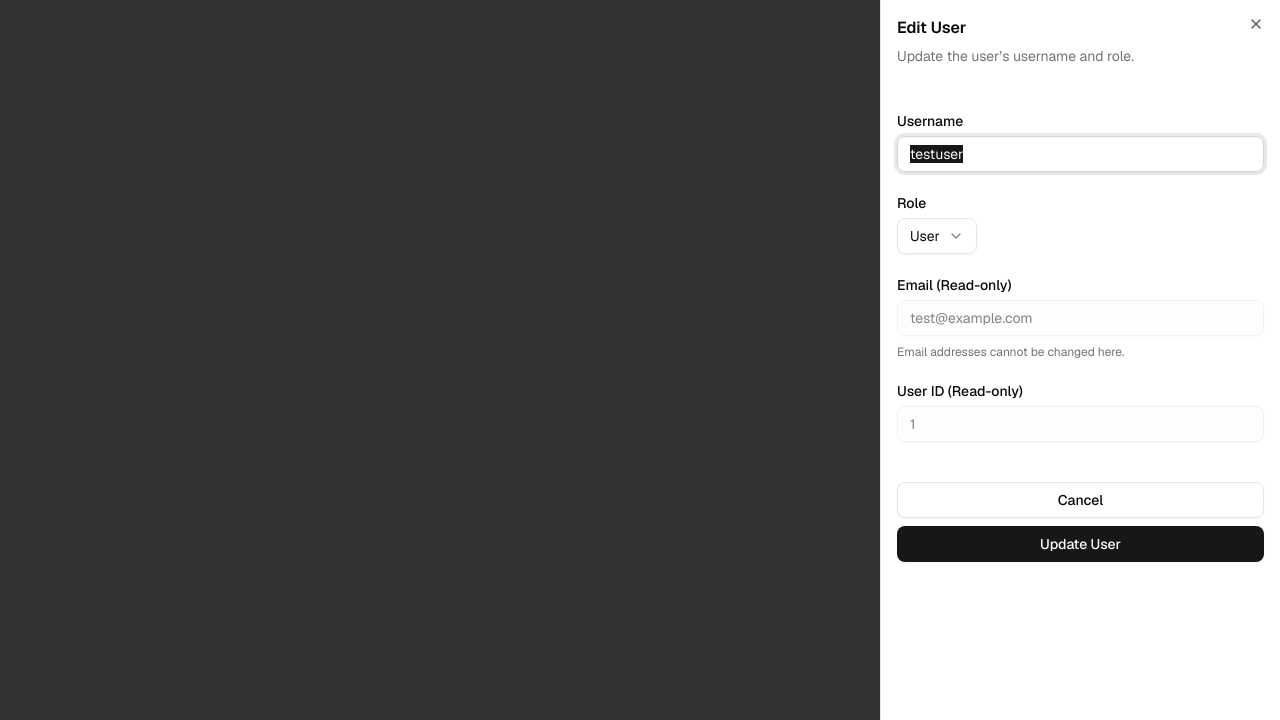
it: UserForm Component › validates username - length constraint
Replace the text in the field with test id "username-input" with "ab" at x=1080, y=154, box [897, 136, 1264, 172]
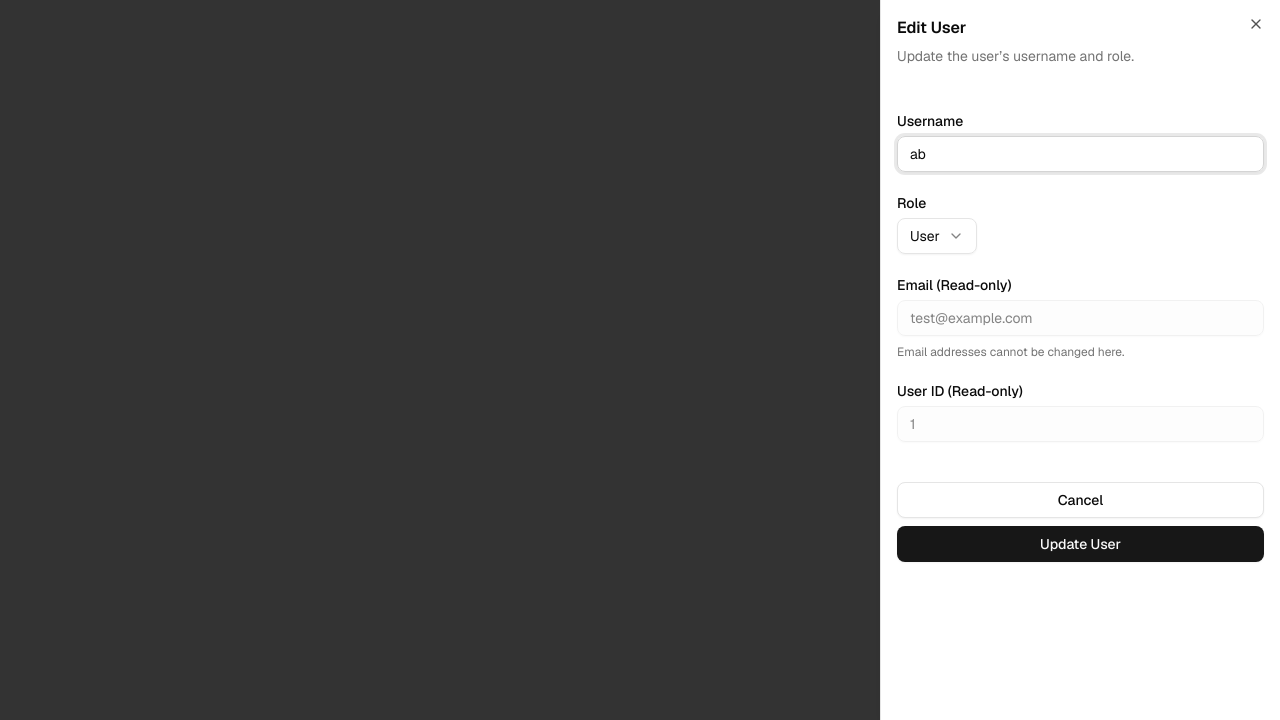
Click the button with test id "submit-button".
click(1080, 544)  # box [897, 526, 1264, 562]
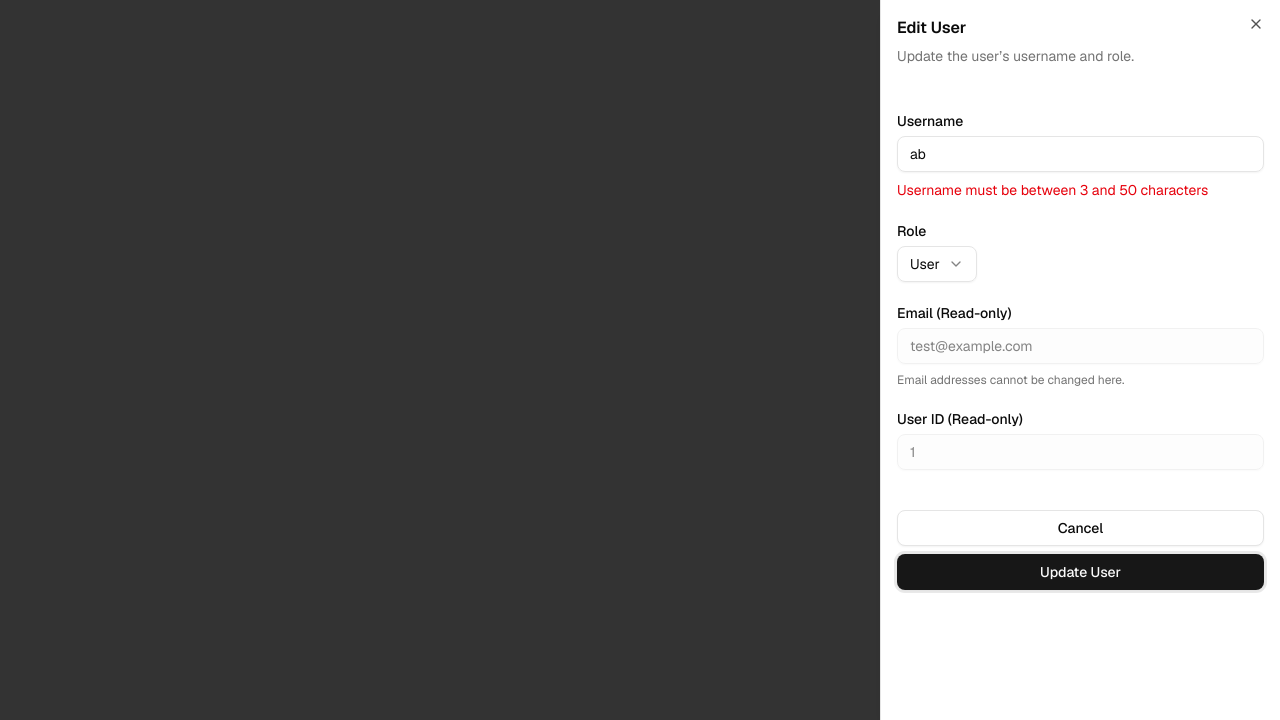
Result: the text with test id "username-error" reads "Username must be between 3 and 50 characters" at [897, 181, 1208, 199]
